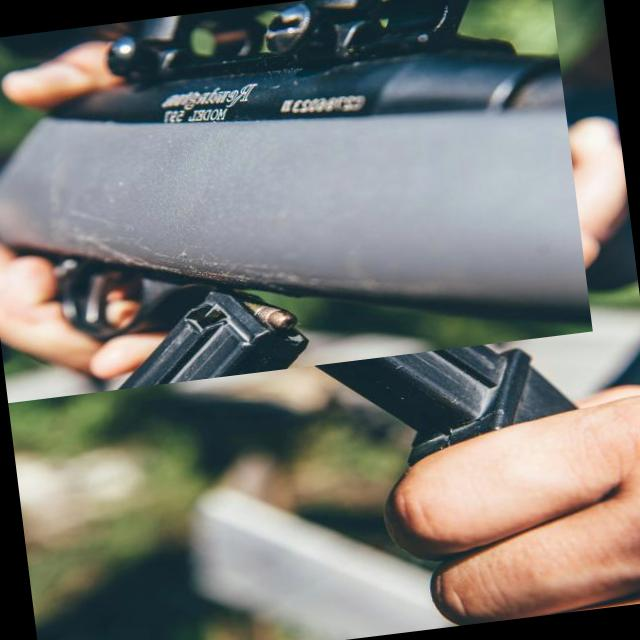Gun: (0, 0, 592, 344)
